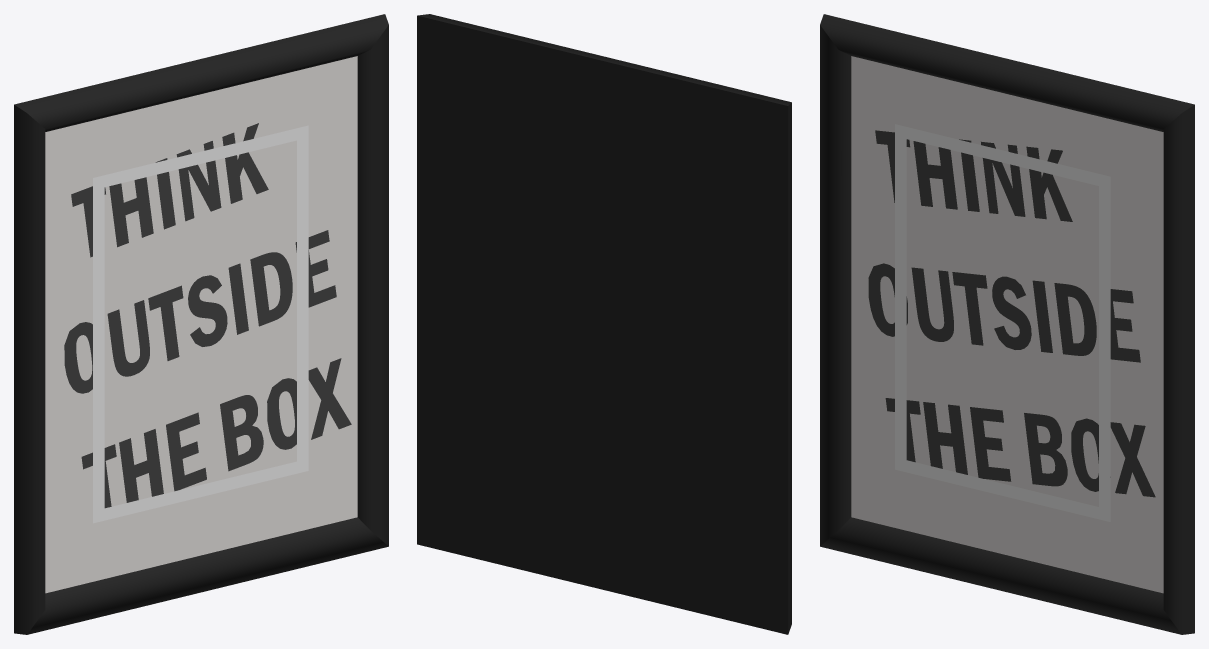
Rendered from picture_026.fbx.
3 views of the same model, side by side, from view 1: azimuth 30°, elevation 25°; view 2: azimuth 150°, elevation 25°; view 3: azimuth 330°, elevation 25° (orthographic).
Visible parts, largest first — view 1: picture_026; view 2: picture_026; view 3: picture_026.
Boxes of the visible parts, left/top/right/bottom form: picture_026: left=14, top=14, right=388, bottom=634; picture_026: left=417, top=14, right=791, bottom=634; picture_026: left=820, top=14, right=1194, bottom=634.
Bounding box in the file's own units: 63.73 × 2.49 × 86.77.
